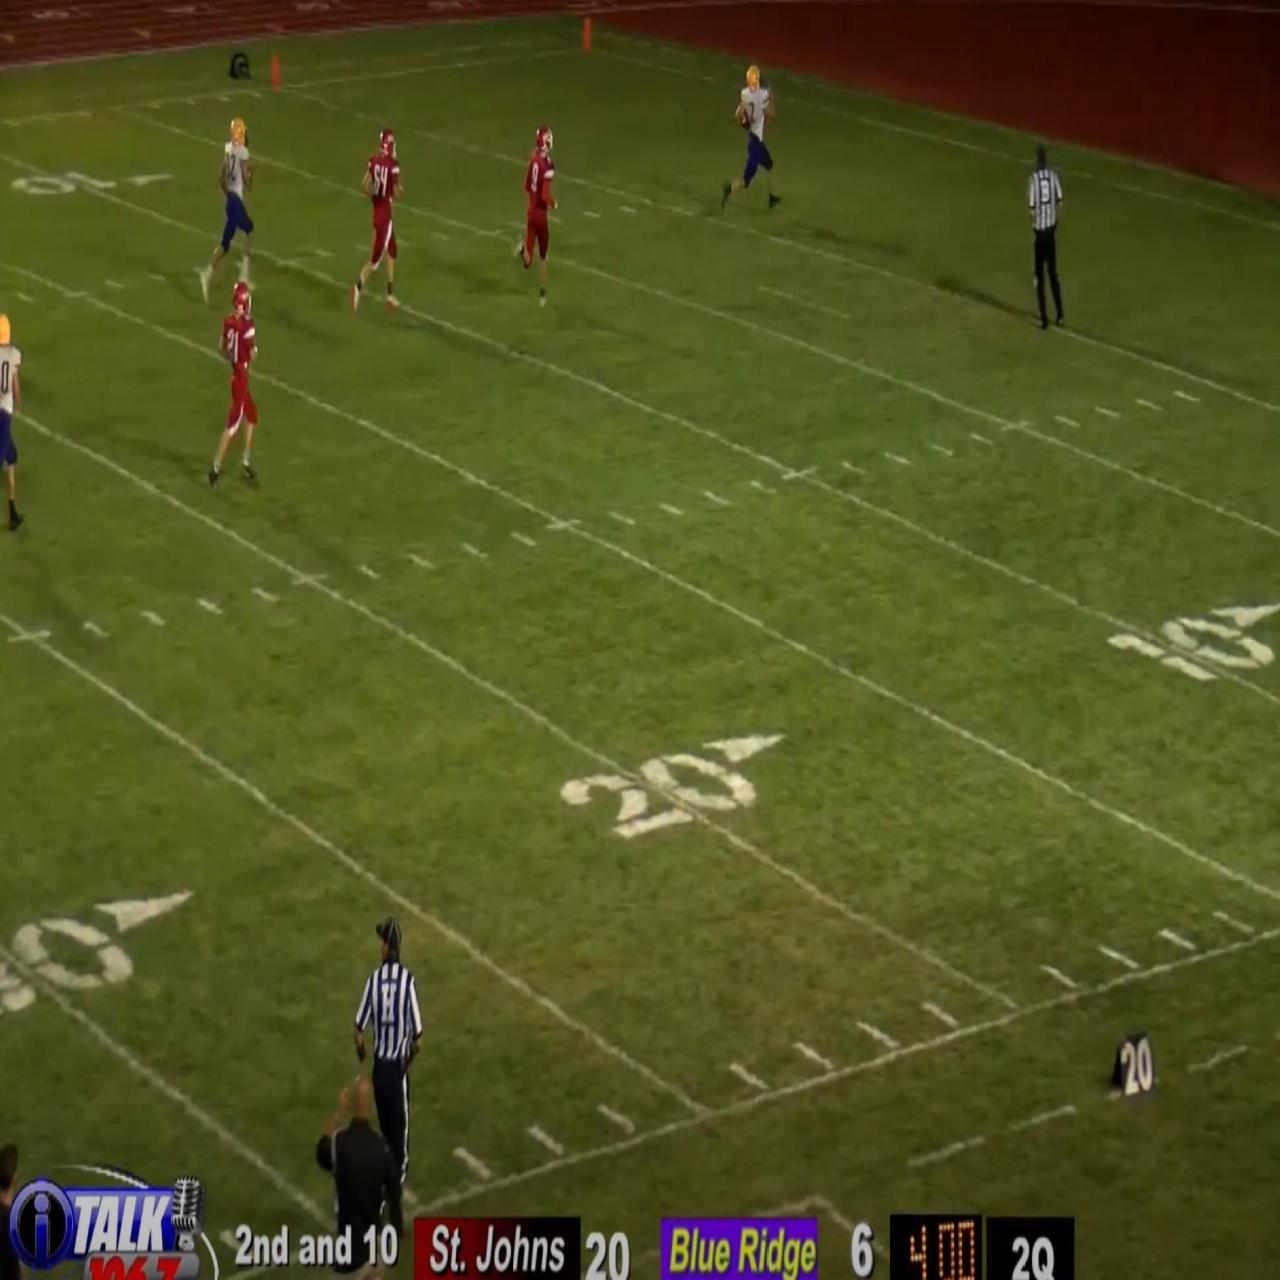10R: (1107, 605, 1280, 683), (12, 168, 173, 199)
20R: (558, 734, 787, 839)
30R: (0, 888, 195, 1019)
